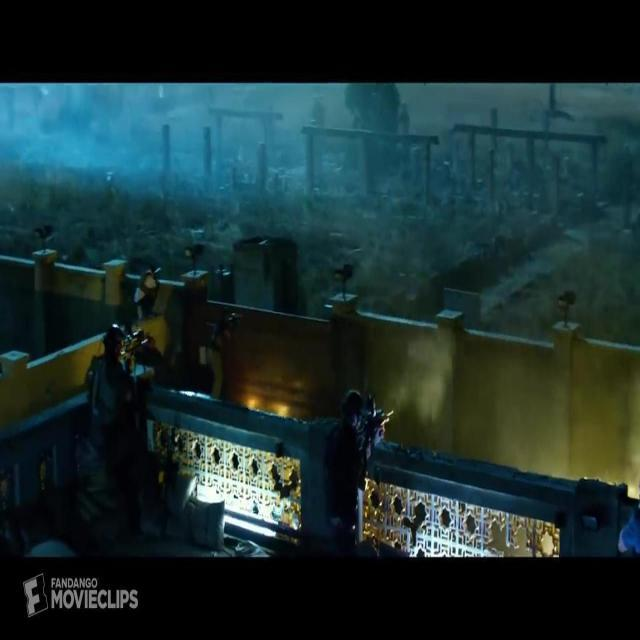Rifle: (350, 391, 396, 463), (112, 322, 150, 380)
